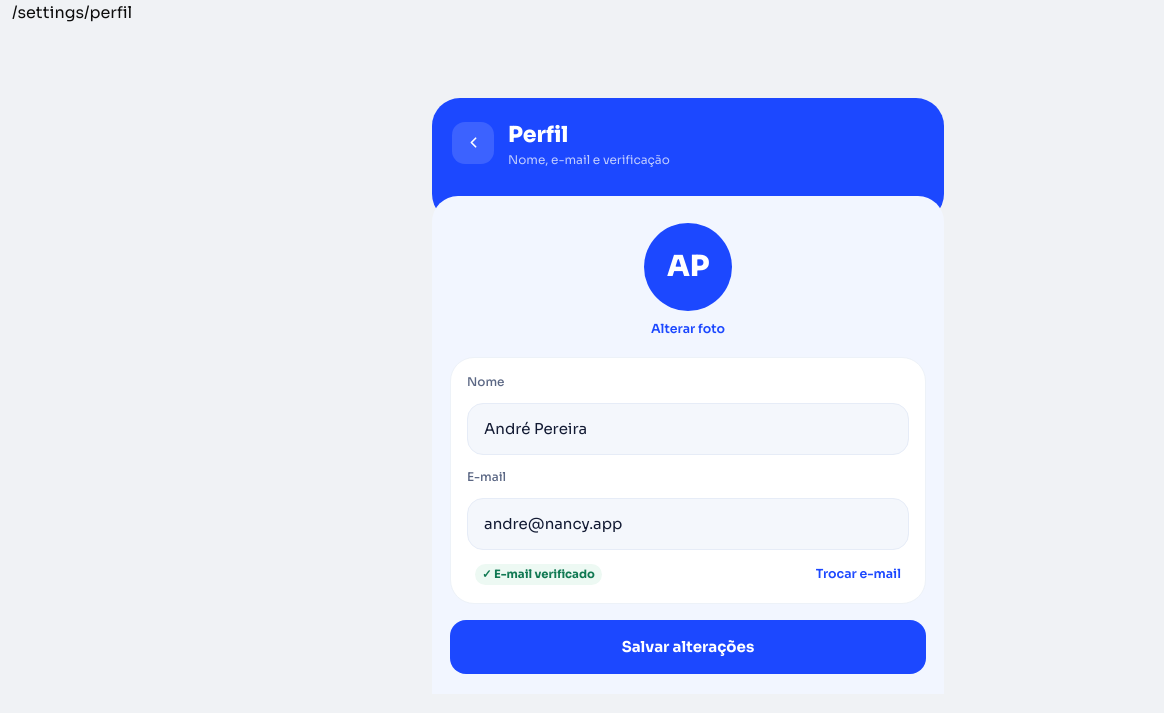
Dados pessoais › "Trocar e-mail" abre novo e-mail + senha; envia, avisa, fecha e guarda a troca pendente
Expected: the field with placeholder "novo@email.com" is not shown
Click the button "Trocar e-mail".
click(858, 574)  # box [816,566,901,582]
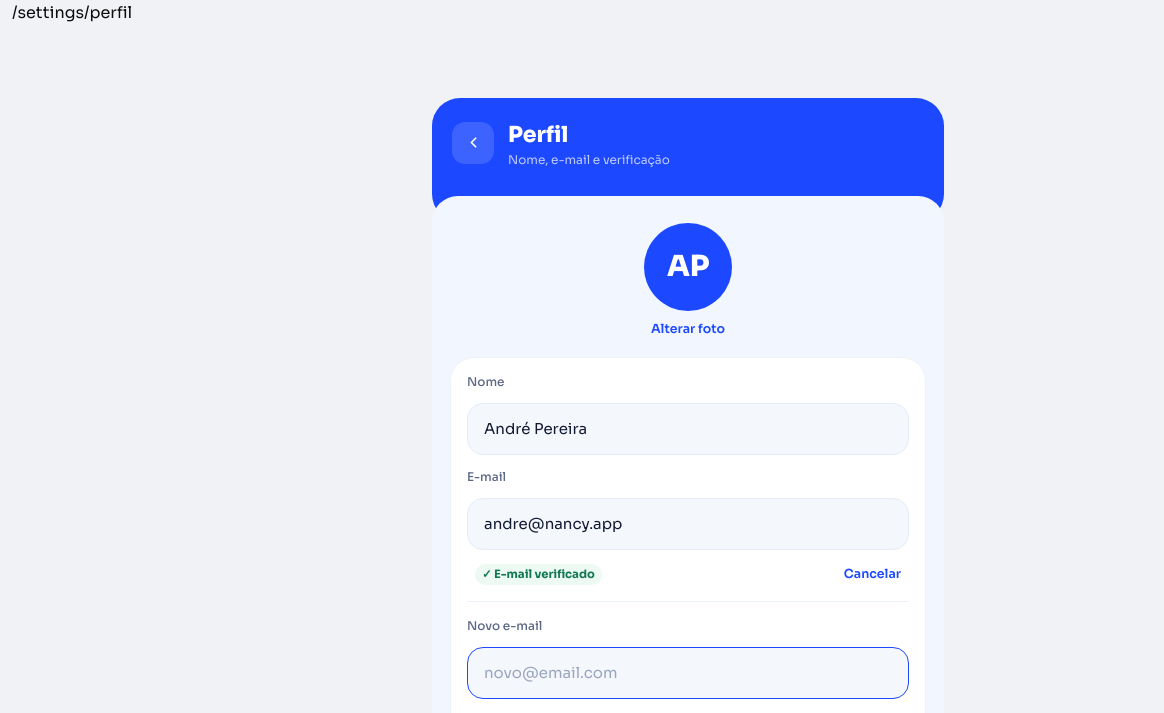
Type " novo@example.com " into the field with placeholder "novo@email.com".
click(688, 673); type(" novo@example.com ")  # box [467,647,909,699]
(page scrolled)
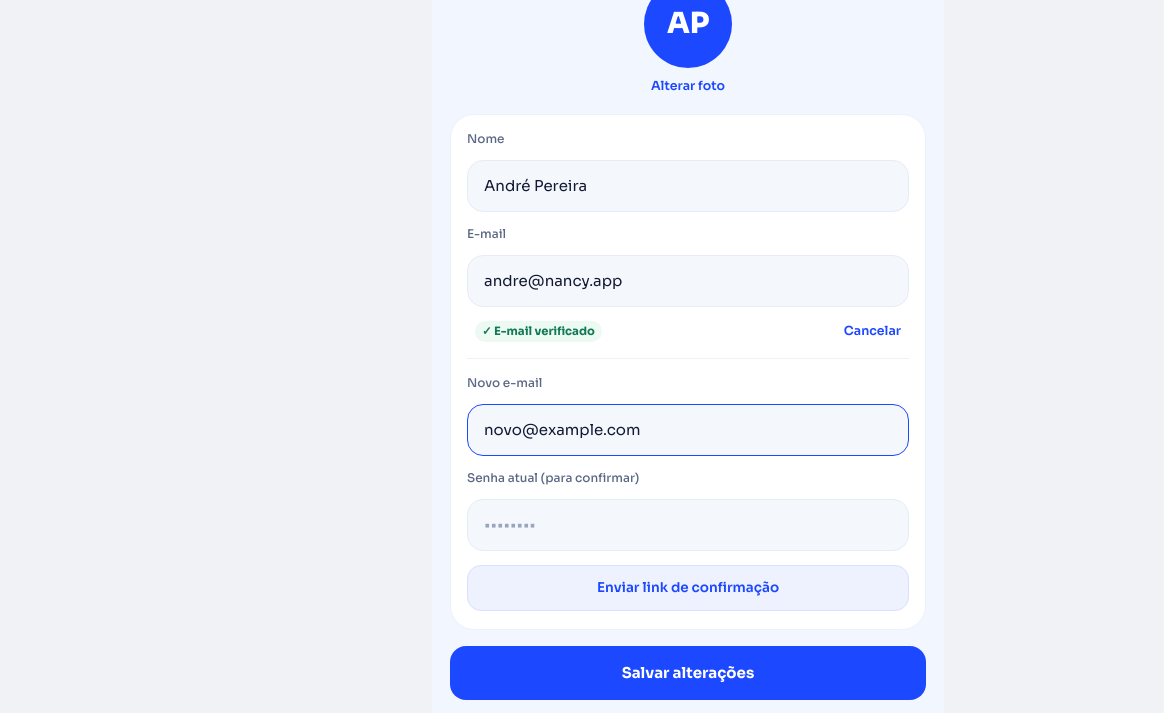
Type "MinhaSenh4a" into the password field with placeholder "••••••••".
click(688, 525); type("MinhaSenh4a")  # box [467,499,909,551]
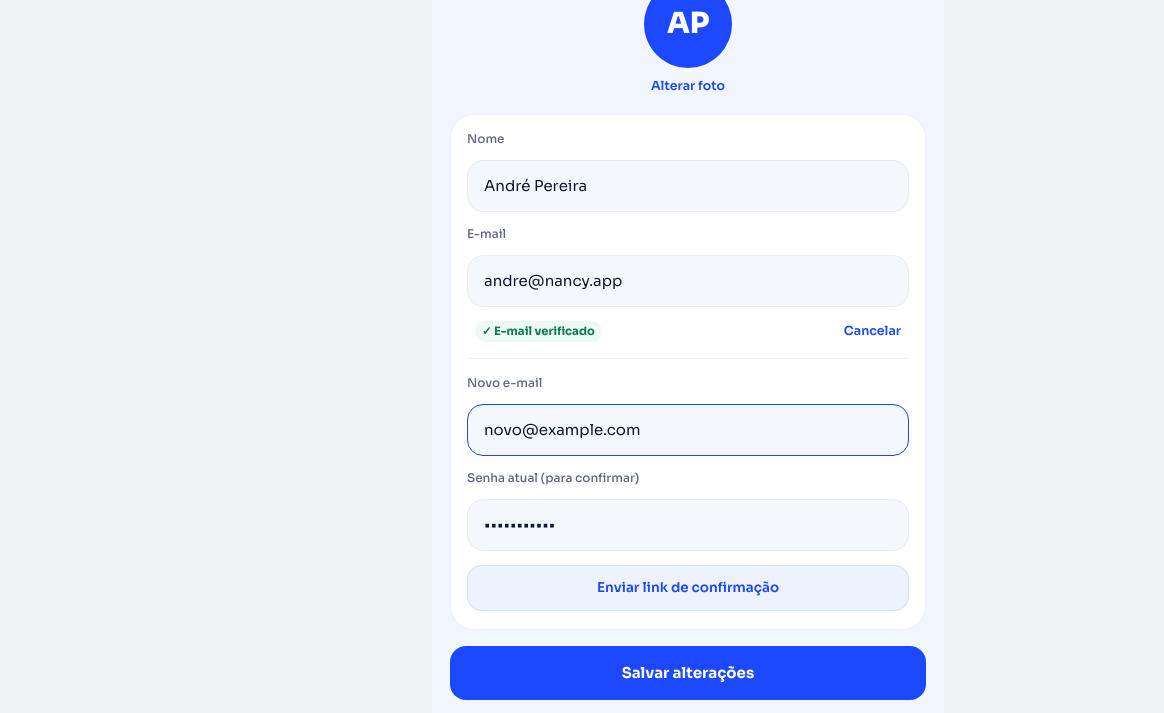
Click the button "Enviar link de confirmação".
click(688, 588)  # box [467,565,909,611]
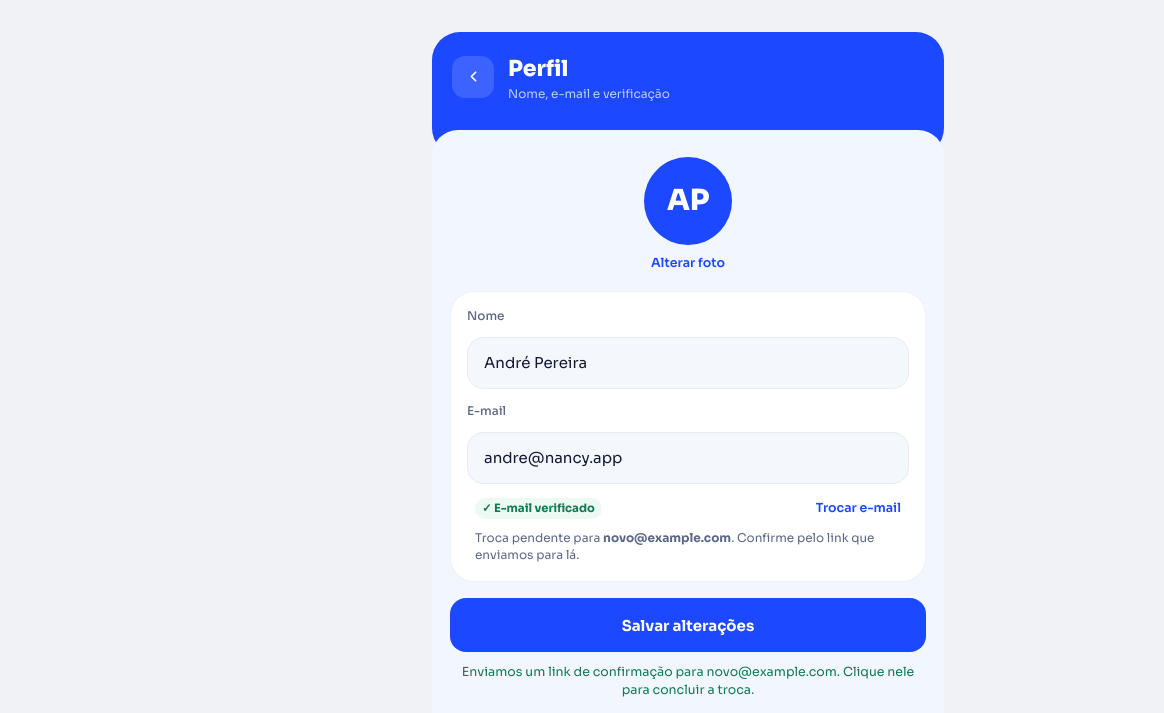
Expected: the field with placeholder "novo@email.com" is not shown
Result: the text "Enviamos um link de confirmação para novo@example.com" is shown at [462,664,914,698]
Result: the text "novo@example.com" is shown at [603,530,731,545]
